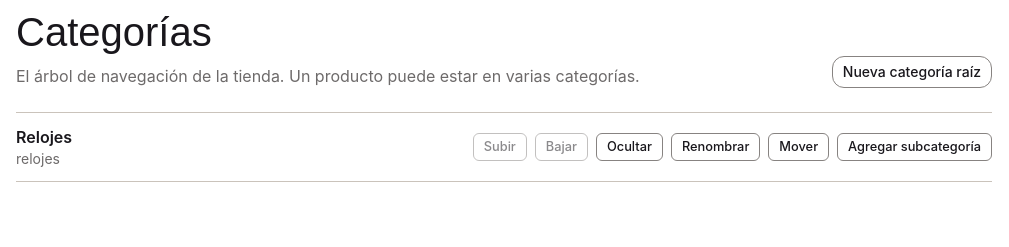
Test: RF-CAT-03 · orden y visibilidad › si la API rechaza el cambio muestra el error, no avisa éxito y relee el árbol
Step 1. Click the button with aria-label "Ocultar Relojes" → click(629, 147), box [596, 133, 663, 161]
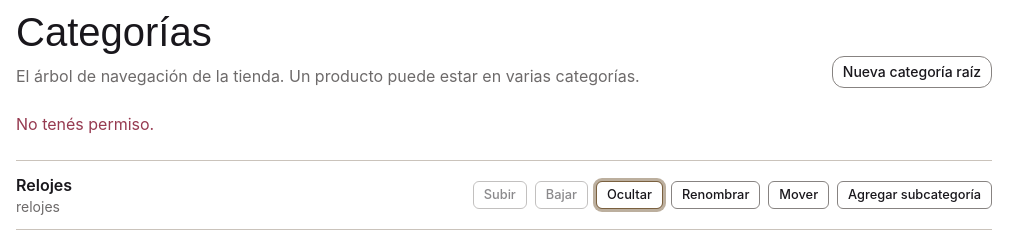
Check: the text "No tenés permiso." is shown, box [16, 114, 154, 134]
